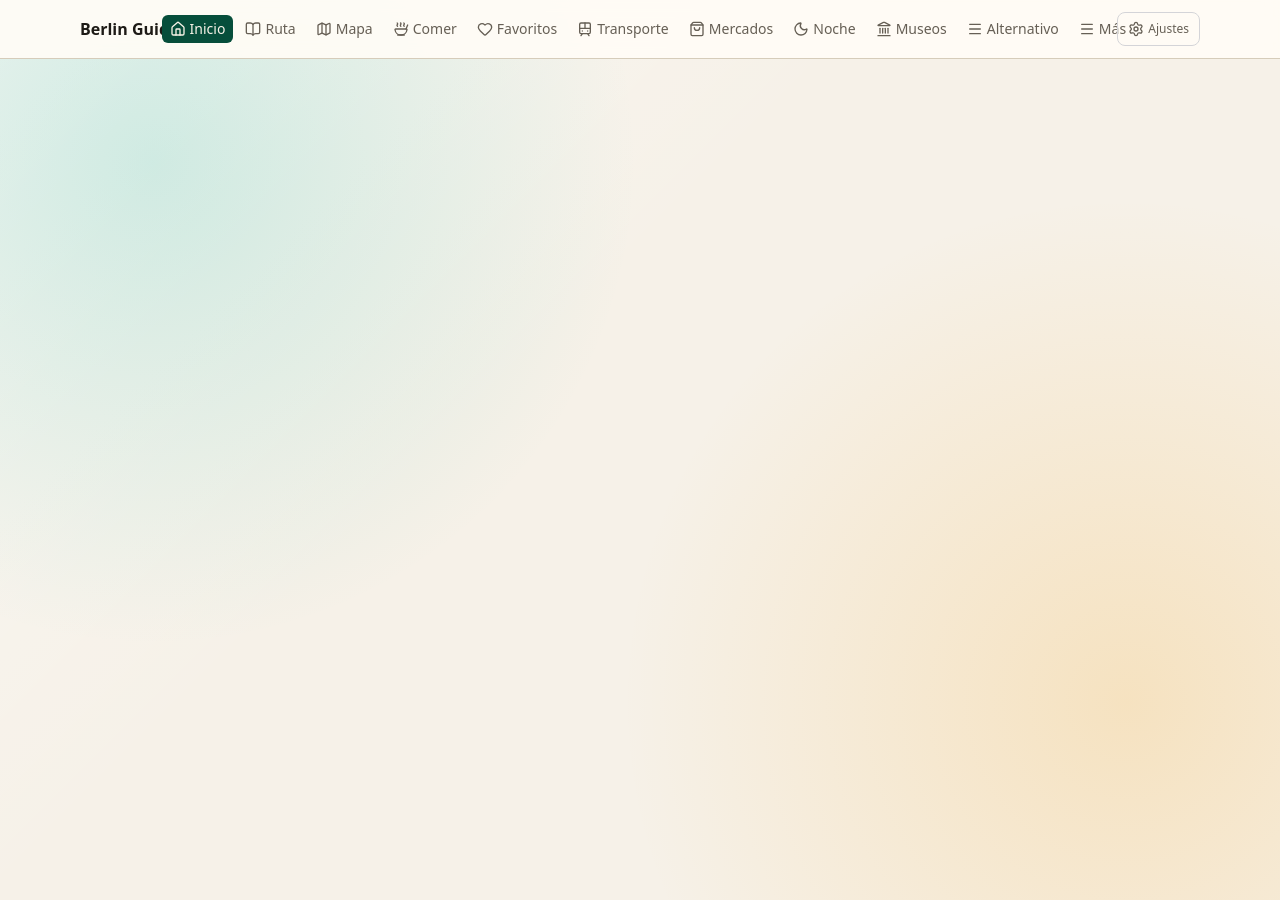
SiteNav › keeps lower-priority desktop sections behind a dropdown
The image size is (1280, 900).
Click the button with aria-label "Más secciones" at (1102, 29), box [1071,15,1134,43]
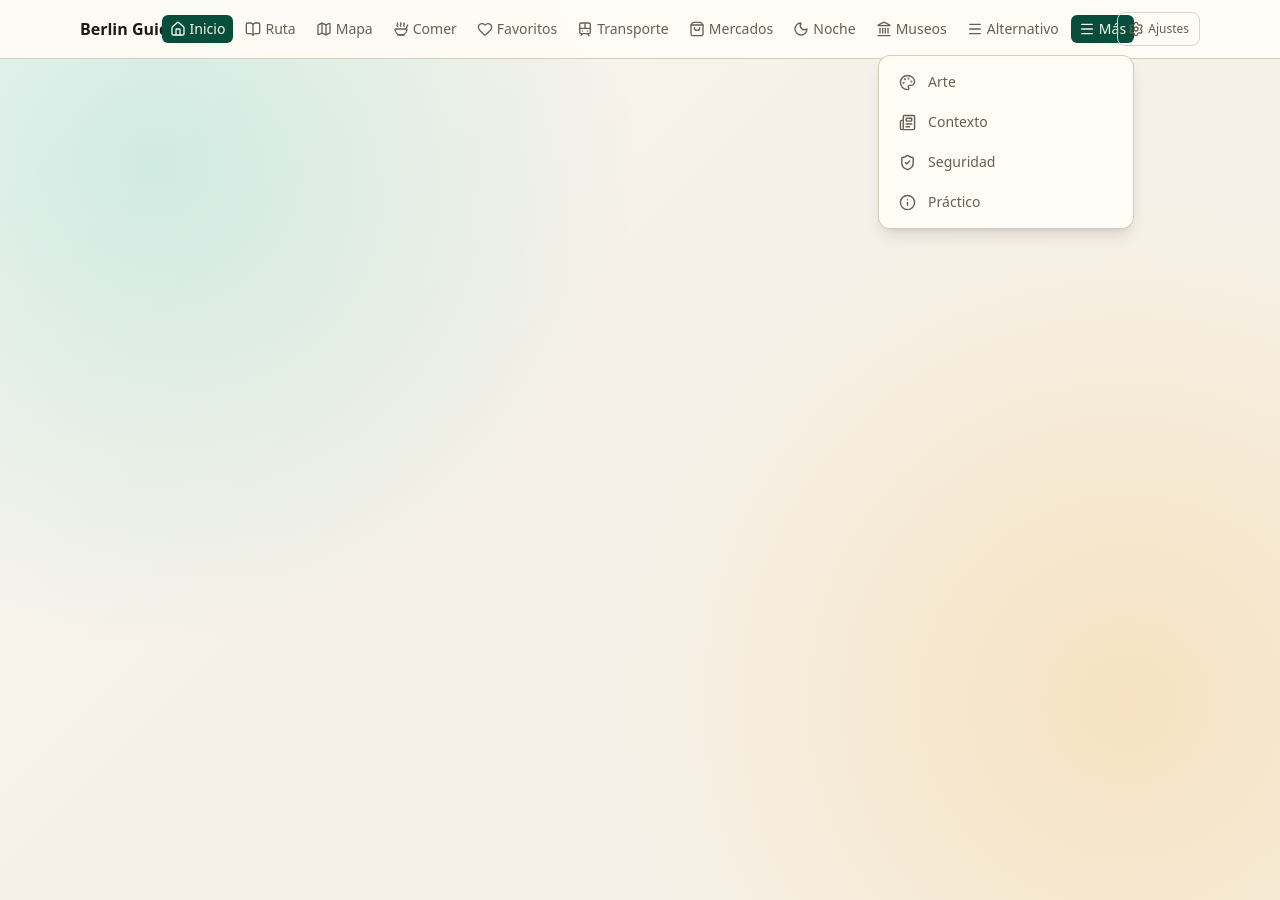
Now the button with aria-label "Más secciones" is expanded, box [1071,15,1134,43]
Now the link "Contexto" is shown, box [899,112,988,131]
Now the link "Seguridad" is shown, box [899,152,995,171]
